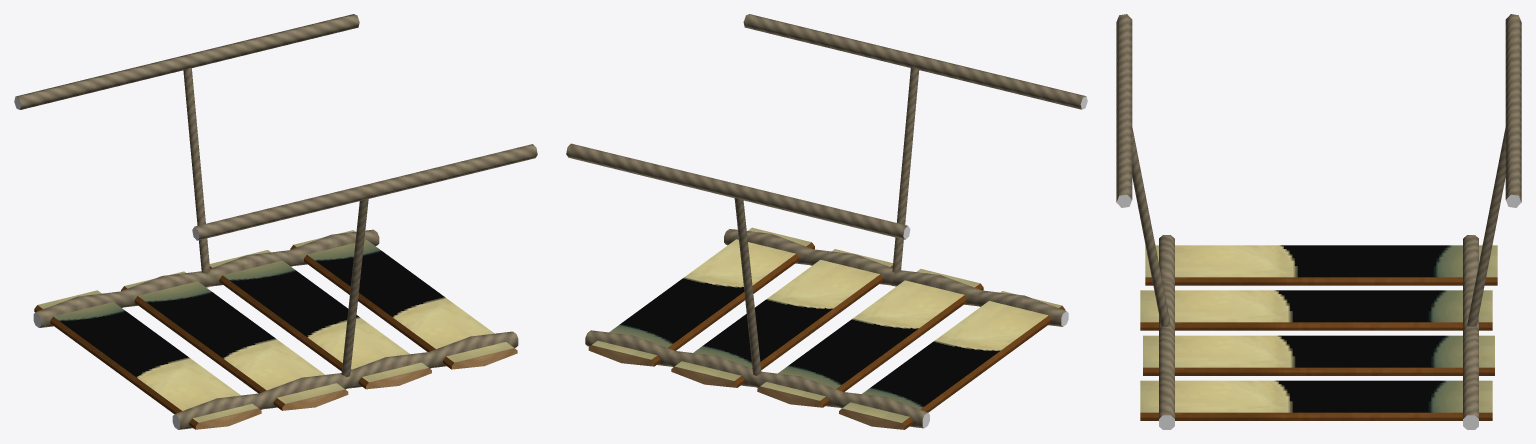
The model's file is Prop_Bridge_Rope_Middle_Basic_1x1.fbx.
3 views of the same model, side by side, from view 1: azimuth 30°, elevation 25°; view 2: azimuth 150°, elevation 25°; view 3: azimuth 270°, elevation 25° (orthographic). The views are drawn at different scales.
Visible parts, largest first — view 1: Prop_Bridge_Rope_Middle_Basic_1x1; view 2: Prop_Bridge_Rope_Middle_Basic_1x1; view 3: Prop_Bridge_Rope_Middle_Basic_1x1.
Boxes of the visible parts, x1=… form: Prop_Bridge_Rope_Middle_Basic_1x1: x1=14, y1=14, x2=537, y2=429; Prop_Bridge_Rope_Middle_Basic_1x1: x1=566, y1=14, x2=1087, y2=429; Prop_Bridge_Rope_Middle_Basic_1x1: x1=1116, y1=14, x2=1521, y2=429.
Bounding box in the file's own units: 100 × 62.35 × 94.84.
